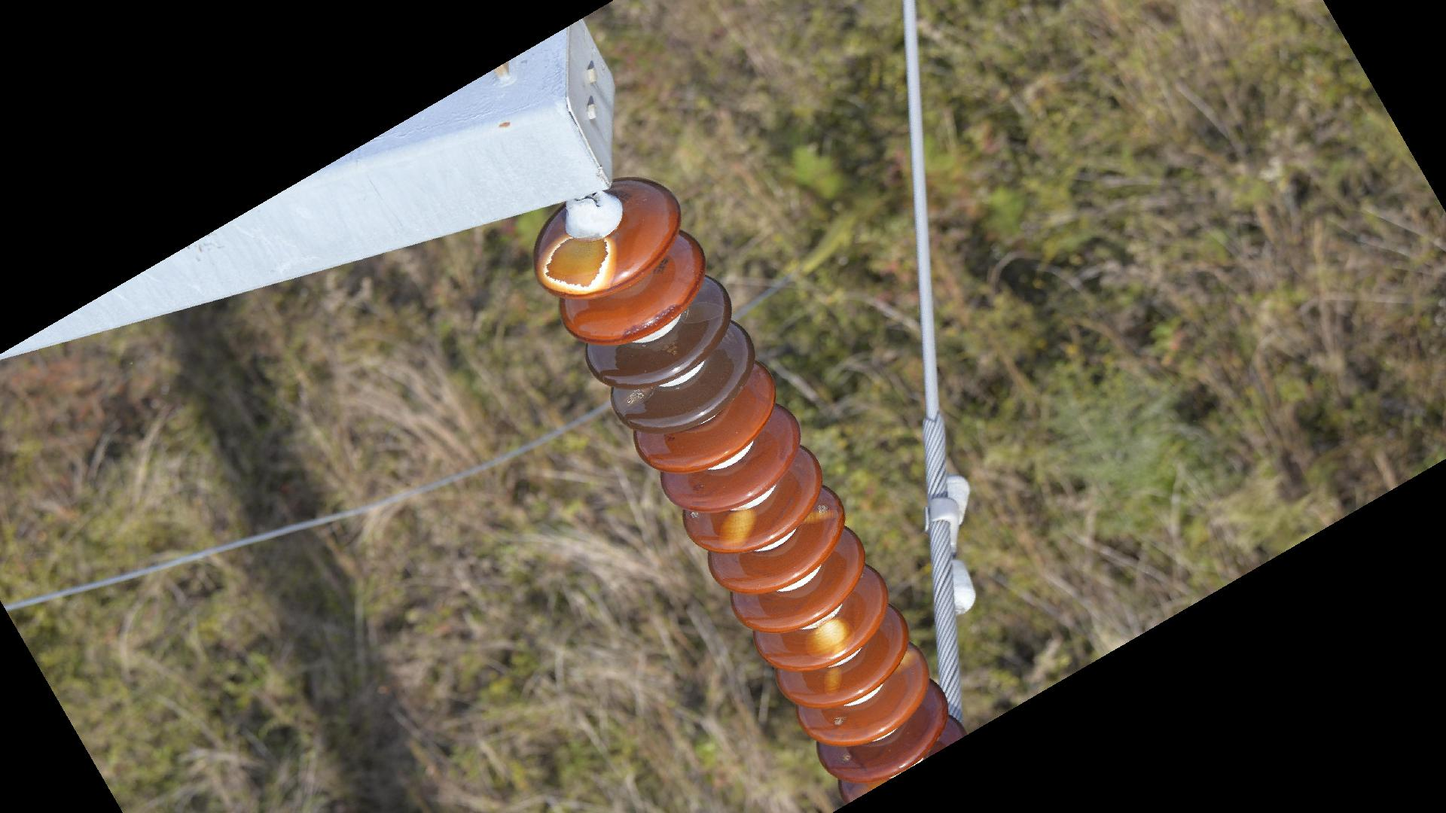insulator: (526, 173, 972, 803)
insulator_flashover: (539, 233, 613, 294), (801, 614, 856, 659), (715, 504, 758, 555), (801, 504, 843, 528), (821, 664, 845, 697)
